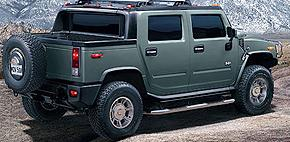back_view: (5, 37, 85, 124)
backlight: (65, 42, 87, 96)
side_glass: (144, 10, 235, 52)
